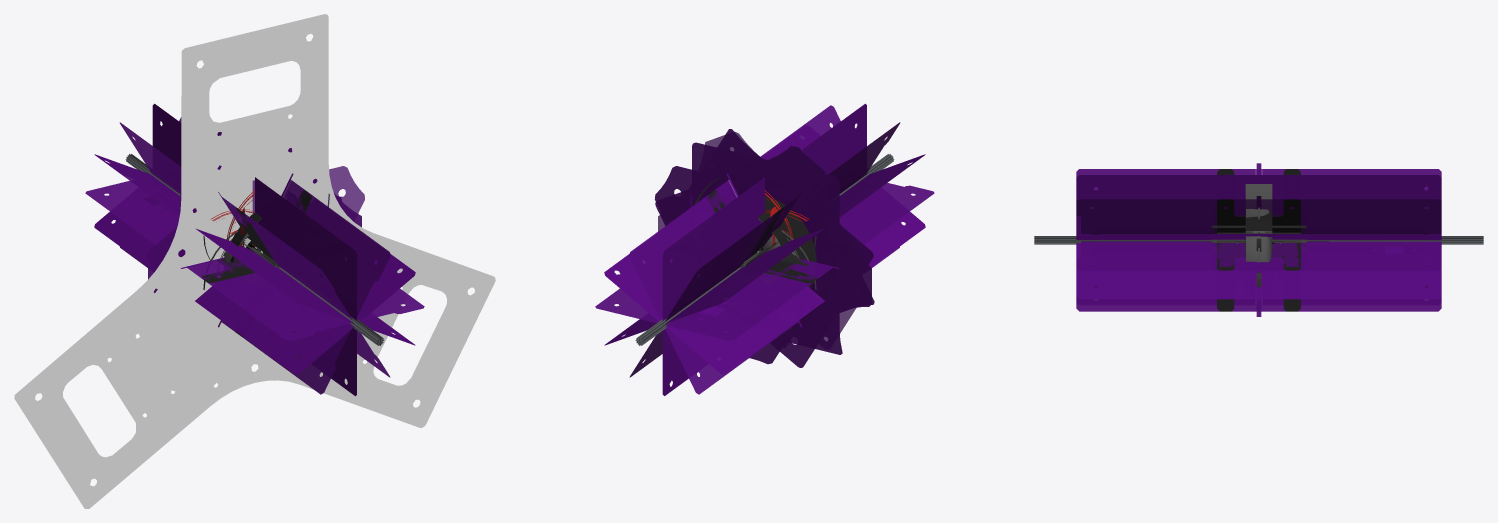
The model's file is robotx.glb.
The picture shows the model from 3 angles, left to right: view 1: azimuth 30°, elevation 25°; view 2: azimuth 150°, elevation 25°; view 3: azimuth 270°, elevation 25°; orthographic projection. The views are drawn at different scales.
Visible parts, largest first — view 1: Base_Plate_28, Carter_Upper_Ext_Ecran_USB_8, Carter_Upper_Ext_Ecran_USB_9, Carter_Upper_Servo_Side_5, Carter_Upper_Side_41, Carter_Upper_Servo_Side_6, Carter_Upper_Side_40, Carter_Upper_Ext_4, Carter_Upper_Ext_Switches_5, Carter_Upper_Ext_5, Carter_Upper_Ext_Switches_4, Carter_Upper_Servo_Side_31 (+3 smaller); view 2: Carter_Upper_Servo_Side_5, Carter_Upper_Ext_Ecran_USB_8, Carter_Upper_Ext_Ecran_USB_9, Carter_Upper_Servo_Side_6, Carter_Upper_Side_41, Carter_Upper_Ext_4, Carter_Upper_Side_40, Corps3_9, Carter_Upper_Ext_5, Corps2_15, Corps1_21, Carter_Upper_Ext_Switches_5 (+13 smaller); view 3: Carter_Upper_Side_5, Carter_Upper_Servo_Side_31, Carter_Upper_Ext_4, Carter_Upper_Ext_Ecran_USB_8, Carter_Upper_Servo_Side_32, Carter_Upper_Ext_Ecran_USB_9, Carter_Upper_Side_4, Carter_Upper_Ext_Switches_4, Carter_Upper_Ext_Switches_5, Carter_Upper_Servo_Side_57, Carter_Upper_Servo_Side_58, Carter_Bas_Ext_72 (+7 smaller).
Boxes of the visible parts, box(x1,y1,x2,y2) form: Base_Plate_28: box(14, 14, 495, 508); Carter_Upper_Ext_Ecran_USB_8: box(85, 181, 424, 340); Carter_Upper_Ext_Ecran_USB_9: box(86, 181, 423, 340); Carter_Upper_Servo_Side_5: box(152, 103, 356, 395); Carter_Upper_Side_41: box(94, 191, 415, 374); Carter_Upper_Servo_Side_6: box(153, 104, 356, 395); Carter_Upper_Side_40: box(95, 192, 414, 373); Carter_Upper_Ext_4: box(120, 117, 390, 394); Carter_Upper_Ext_Switches_5: box(119, 122, 390, 377); Carter_Upper_Ext_5: box(120, 119, 389, 393); Carter_Upper_Ext_Switches_4: box(120, 123, 389, 376); Carter_Upper_Servo_Side_31: box(94, 154, 415, 345); Carter_Upper_Servo_Side_5: box(662, 103, 866, 395); Carter_Upper_Ext_Ecran_USB_8: box(595, 183, 934, 340); Carter_Upper_Ext_Ecran_USB_9: box(596, 183, 933, 340); Carter_Upper_Servo_Side_6: box(663, 104, 866, 395); Carter_Upper_Side_41: box(604, 211, 925, 374); Carter_Upper_Ext_4: box(629, 105, 899, 394); Carter_Upper_Side_40: box(605, 212, 924, 373); Corps3_9: box(692, 142, 842, 354); Carter_Upper_Ext_5: box(630, 106, 899, 393); Corps2_15: box(676, 129, 873, 367); Corps1_21: box(655, 147, 874, 332); Carter_Upper_Ext_Switches_5: box(629, 122, 900, 377); Carter_Upper_Side_5: box(1076, 175, 1441, 234); Carter_Upper_Servo_Side_31: box(1076, 243, 1441, 299); Carter_Upper_Ext_4: box(1076, 199, 1441, 234); Carter_Upper_Ext_Ecran_USB_8: box(1076, 241, 1441, 270); Carter_Upper_Servo_Side_32: box(1077, 244, 1440, 298); Carter_Upper_Ext_Ecran_USB_9: box(1077, 242, 1440, 269); Carter_Upper_Side_4: box(1077, 175, 1440, 233); Carter_Upper_Ext_Switches_4: box(1076, 169, 1441, 311); Carter_Upper_Ext_Switches_5: box(1077, 169, 1440, 310); Carter_Upper_Servo_Side_57: box(1076, 234, 1441, 239); Carter_Upper_Servo_Side_58: box(1077, 234, 1440, 239); Carter_Bas_Ext_72: box(1217, 199, 1300, 232).
Size of what is drawn, in the model's own units: 10697 by 9296 by 9666.
